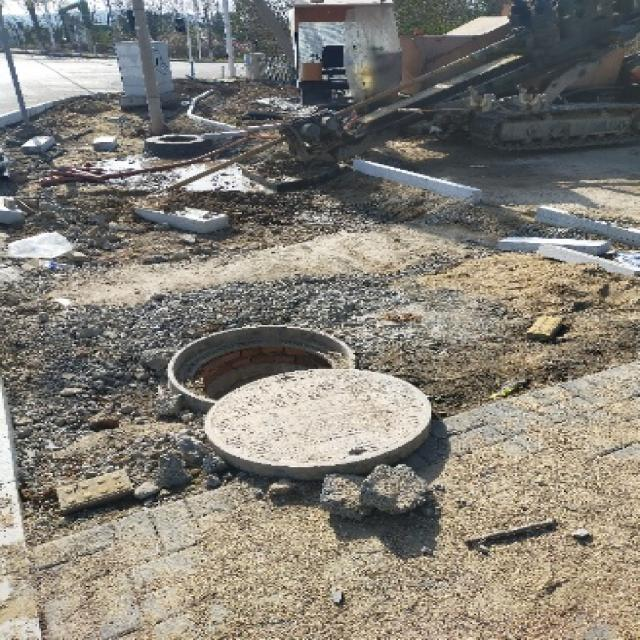Faulty: (139, 315, 454, 492)
